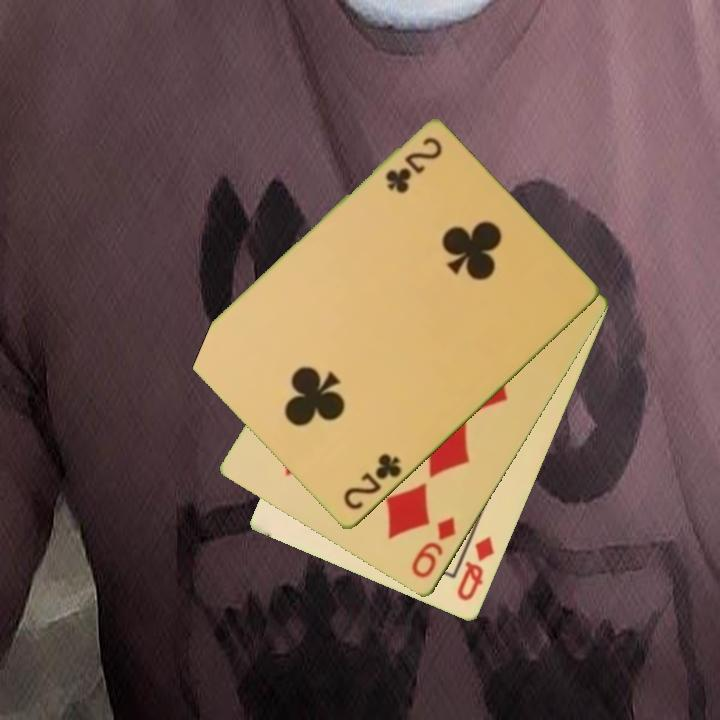2c: (340, 450, 405, 514), (381, 134, 446, 196)
9d: (407, 514, 460, 582)
Qd: (453, 533, 497, 605)
